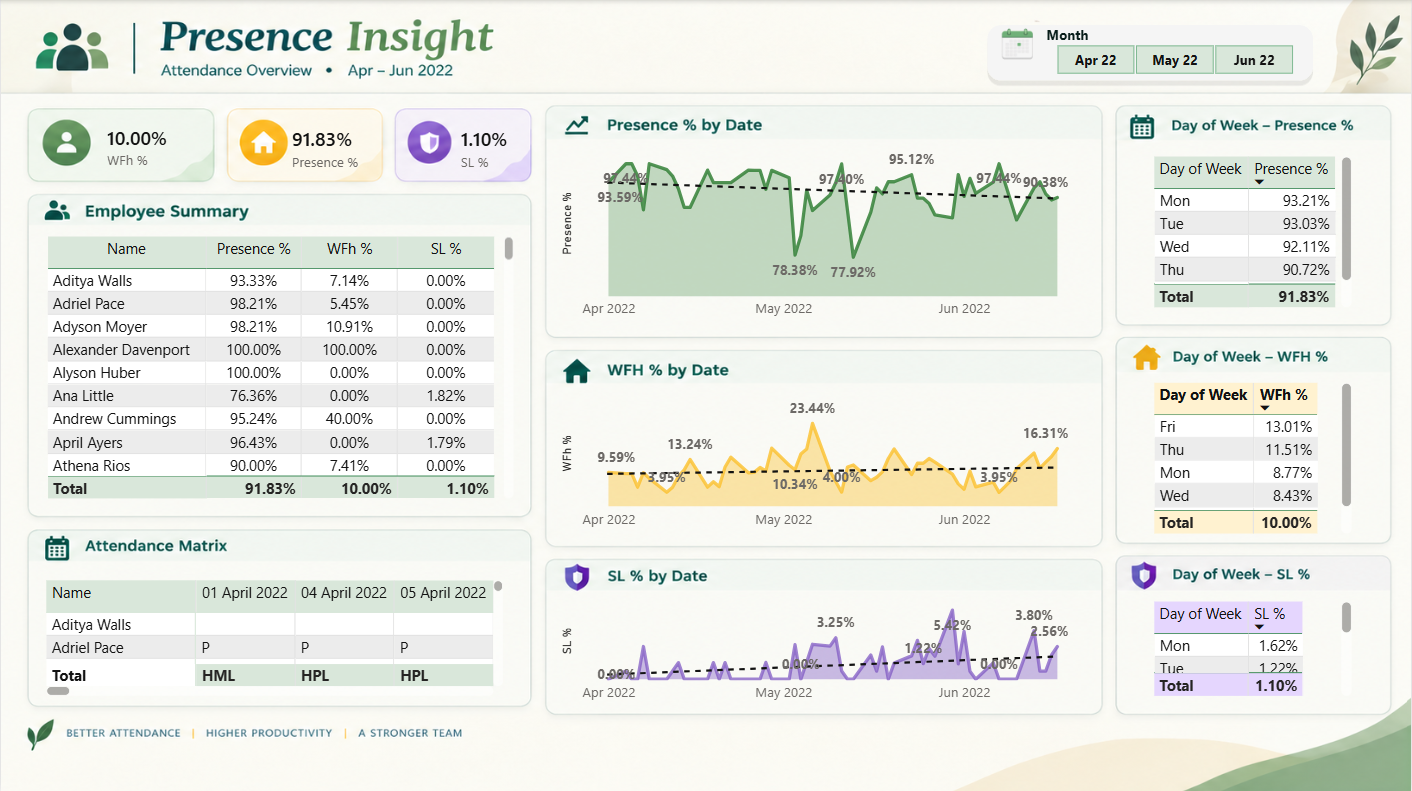

What the dashboard file says about the page in this screenshot:
{"tool":"powerbi","page":{"name":"Presence Overview","canvas":[1280,720],"ordinal":0},"visuals":[{"type":"shape","box":[889.5,17.4,307,61.6],"z":0},{"type":"cardVisual","fields":{"Data":["Measures Table.Presence %"]},"box":[253.7,96.3,86.6,68.3],"z":1000},{"type":"slicer","fields":{"Values":["Final  Data.Month"]},"box":[932.6,33.7,264,37.2],"z":2000},{"type":"cardVisual","fields":{"Data":["Measures Table.WFh %"]},"box":[86.6,96.3,84.1,67.1],"z":3000},{"type":"cardVisual","fields":{"Data":["Measures Table.SL %"]},"box":[407.3,96.3,72,68.3],"z":4000},{"type":"tableEx","fields":{"Values":["Final  Data.Name","Measures Table.Presence %","Measures Table.WFh %","Measures Table.SL %"]},"box":[36,209.3,433.7,247.7],"z":5000},{"type":"pivotTable","fields":{"Columns":["Final  Data.Date"],"Rows":["Final  Data.Name"],"Values":["Min(Final  Data.Value)"]},"box":[36.6,522,424.4,114.6],"z":6000},{"type":"areaChart","fields":{"Category":["Final  Data.Date"],"Y":["Measures Table.Presence %"]},"box":[503.7,123.2,484.1,174.4],"z":7000},{"type":"areaChart","fields":{"Category":["Final  Data.Date"],"Y":["Measures Table.WFh %"]},"box":[503.7,348.8,484.1,140.2],"z":8000},{"type":"areaChart","fields":{"Category":["Final  Data.Date"],"Y":["Measures Table.SL %"]},"box":[503.7,532.9,484.1,113.4],"z":9000},{"type":"tableEx","fields":{"Values":["Final  Data.Day of Week","Measures Table.Presence %"]},"box":[1040.2,137.8,190.2,146.3],"z":10000},{"type":"tableEx","fields":{"Values":["Final  Data.Day of Week","Measures Table.WFh %"]},"box":[1040.2,342.7,190.2,146.3],"z":11000},{"type":"tableEx","fields":{"Values":["Final  Data.Day of Week","Measures Table.SL %"]},"box":[1040.2,541.5,190.2,95.1],"z":12000},{"type":"image","box":[900,17.4,45.3,47.7],"z":13000},{"type":"textbox","box":[944.2,17.4,59.3,31.4],"z":13001}]}

Visuals, with their boxes in screenshot pixels (x1, y1, x2, y2), scaled from the page's 1280x720 canvas onto the 1412x791 screenshot:
shape: [x1=981, y1=19, x2=1320, y2=87]
cardVisual - Measures Table.Presence %: [x1=280, y1=106, x2=375, y2=181]
slicer - Final  Data.Month: [x1=1029, y1=37, x2=1320, y2=78]
cardVisual - Measures Table.WFh %: [x1=96, y1=106, x2=188, y2=180]
cardVisual - Measures Table.SL %: [x1=449, y1=106, x2=529, y2=181]
tableEx - Final  Data.Name x Measures Table.Presence %: [x1=40, y1=230, x2=518, y2=502]
pivotTable - Final  Data.Date x Final  Data.Name: [x1=40, y1=573, x2=509, y2=699]
areaChart - Final  Data.Date x Measures Table.Presence %: [x1=556, y1=135, x2=1090, y2=327]
areaChart - Final  Data.Date x Measures Table.WFh %: [x1=556, y1=383, x2=1090, y2=537]
areaChart - Final  Data.Date x Measures Table.SL %: [x1=556, y1=585, x2=1090, y2=710]
tableEx - Final  Data.Day of Week x Measures Table.Presence %: [x1=1147, y1=151, x2=1357, y2=312]
tableEx - Final  Data.Day of Week x Measures Table.WFh %: [x1=1147, y1=376, x2=1357, y2=537]
tableEx - Final  Data.Day of Week x Measures Table.SL %: [x1=1147, y1=595, x2=1357, y2=699]
image: [x1=993, y1=19, x2=1043, y2=72]
textbox: [x1=1042, y1=19, x2=1107, y2=54]
